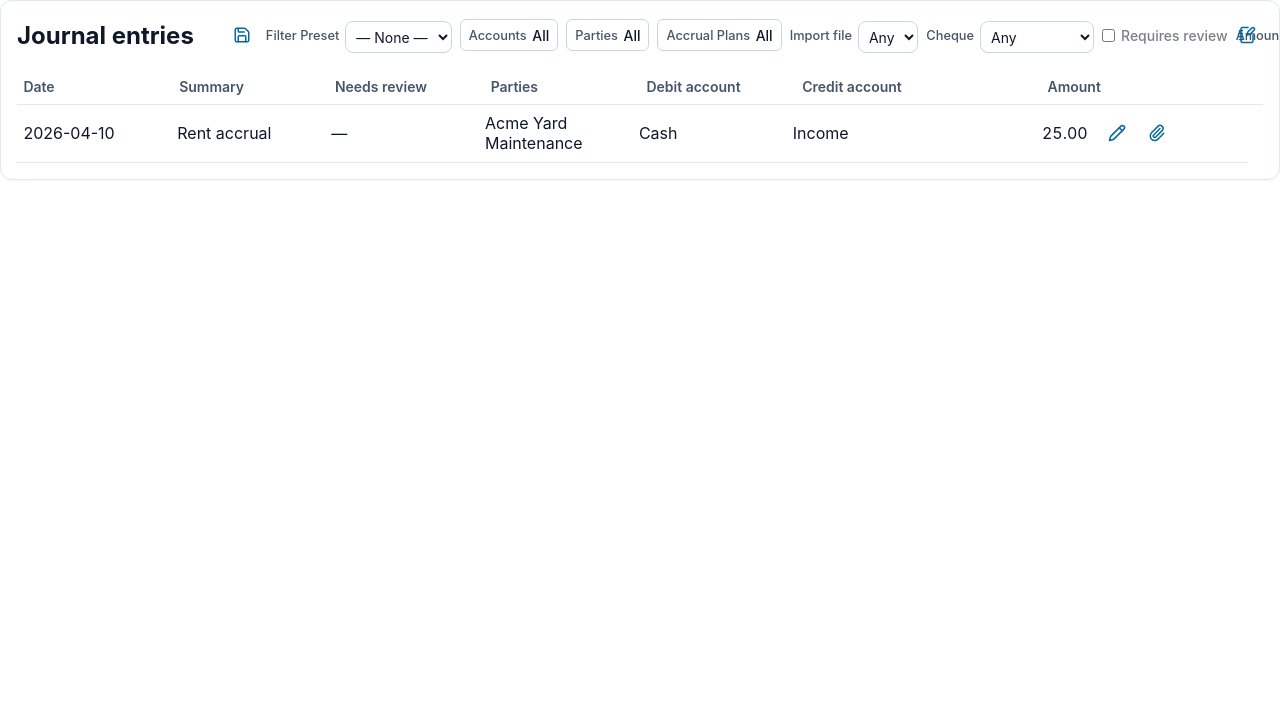
JournalEntriesPanel › unlinks an attachment after confirmation
Click the button named "Attachments for Rent accrual": click(1156, 133) [1140,117,1172,149]
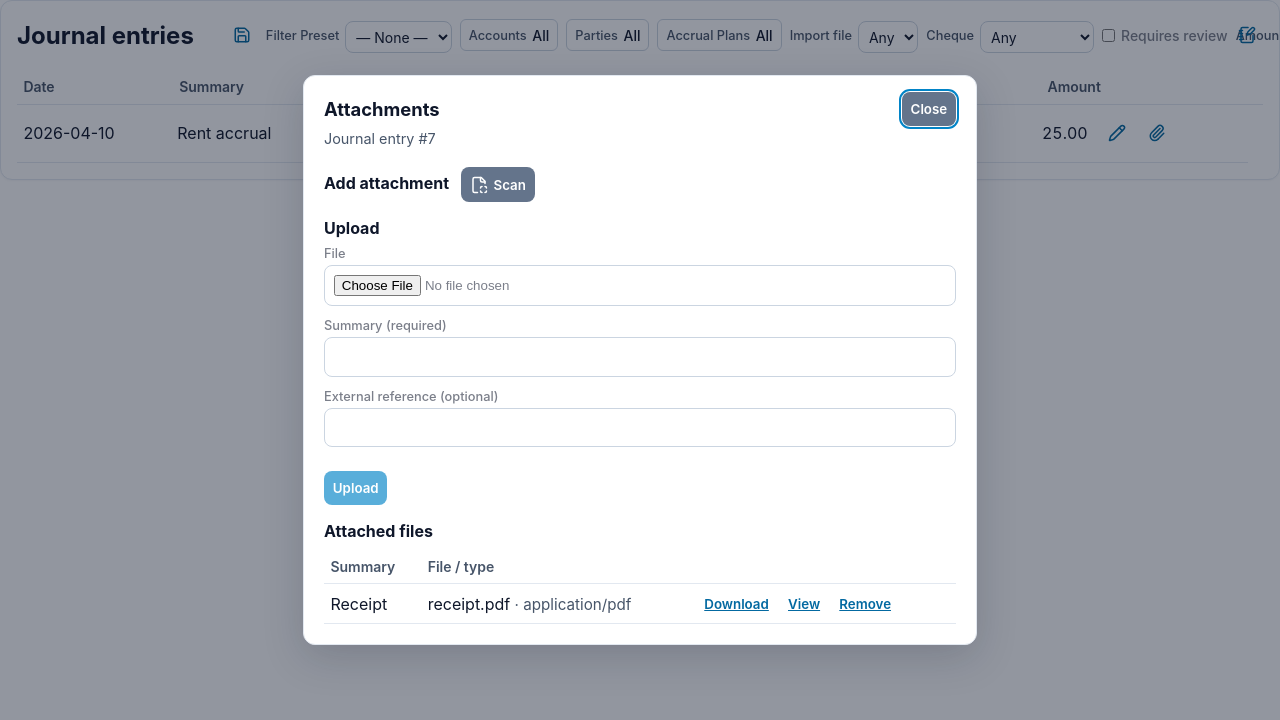
expect the text "Receipt" is shown: met, box [324,584,421,623]
Click the button "Remove": click(865, 604) [834,593,897,614]
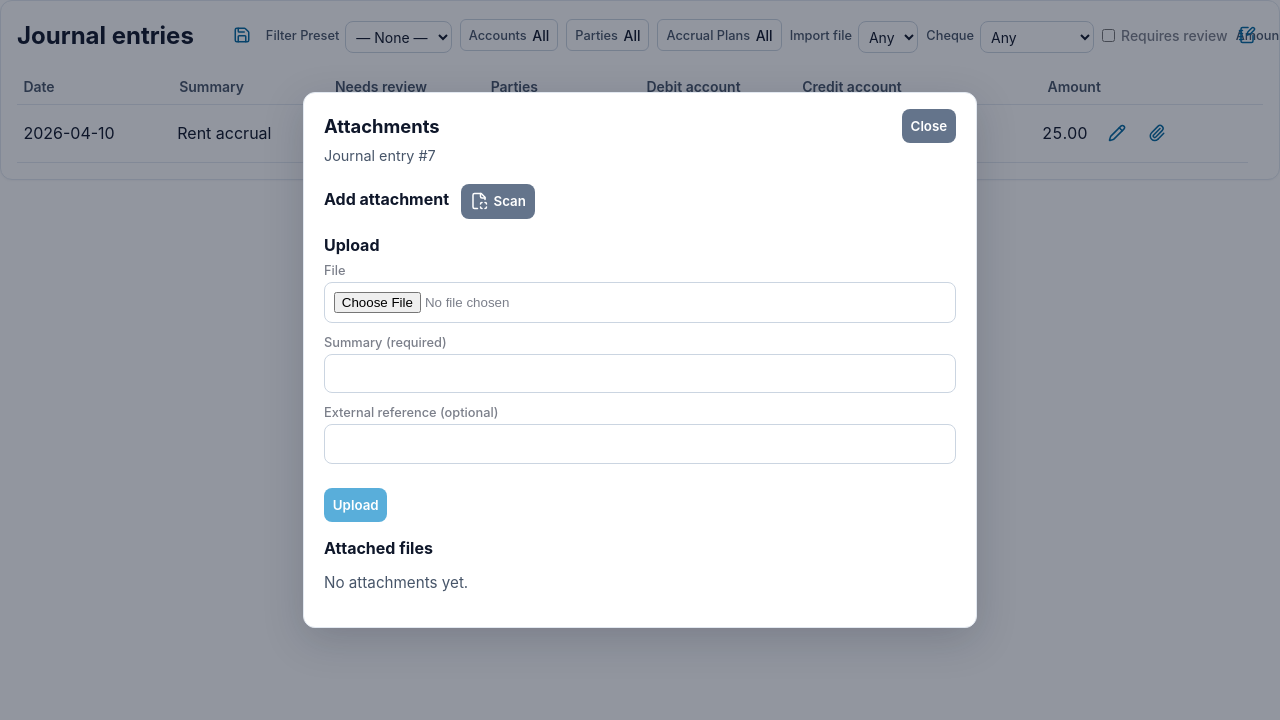
expect the text "No attachments yet." is shown: met, box [324,573,468,592]
